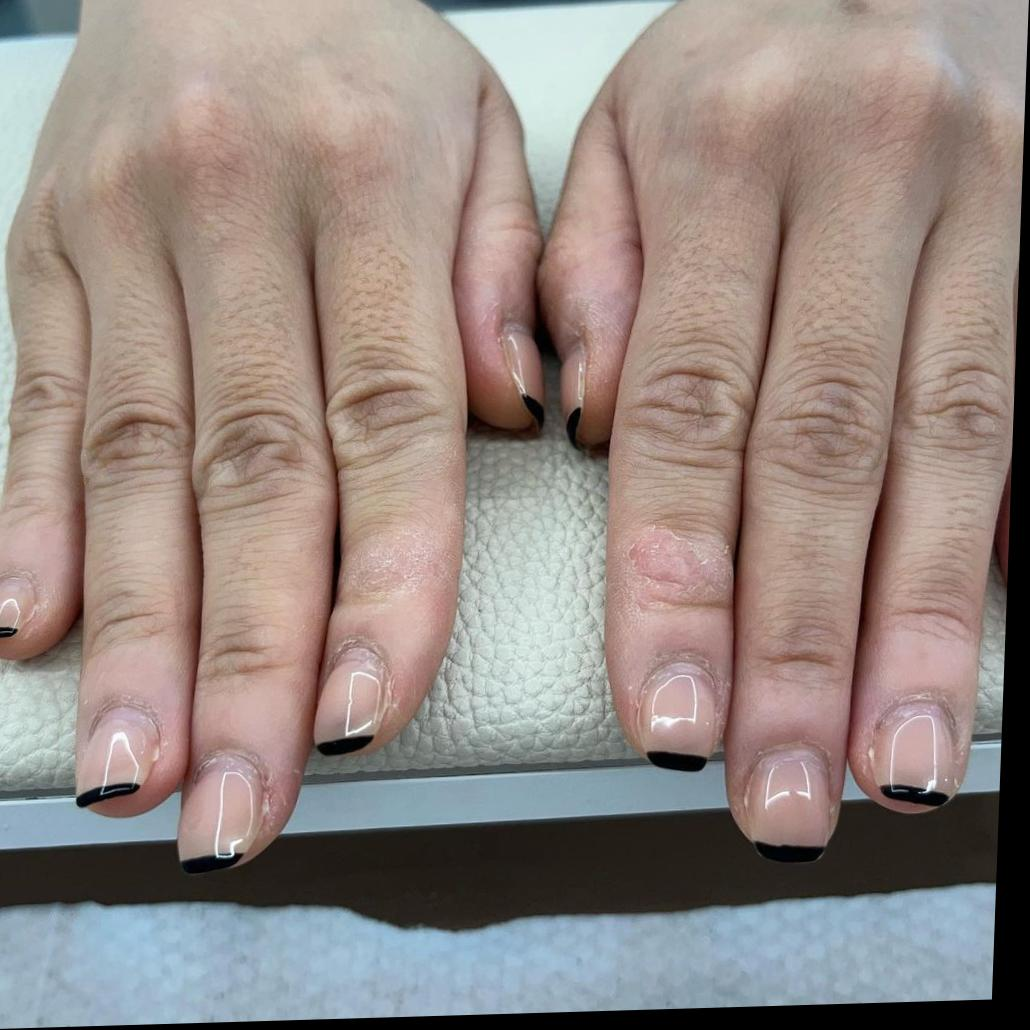nail: (174, 748, 267, 875), (739, 741, 835, 864), (868, 696, 961, 810), (632, 655, 721, 772), (73, 698, 163, 809), (311, 637, 394, 756), (493, 321, 548, 431), (558, 336, 591, 452), (0, 569, 40, 648)
